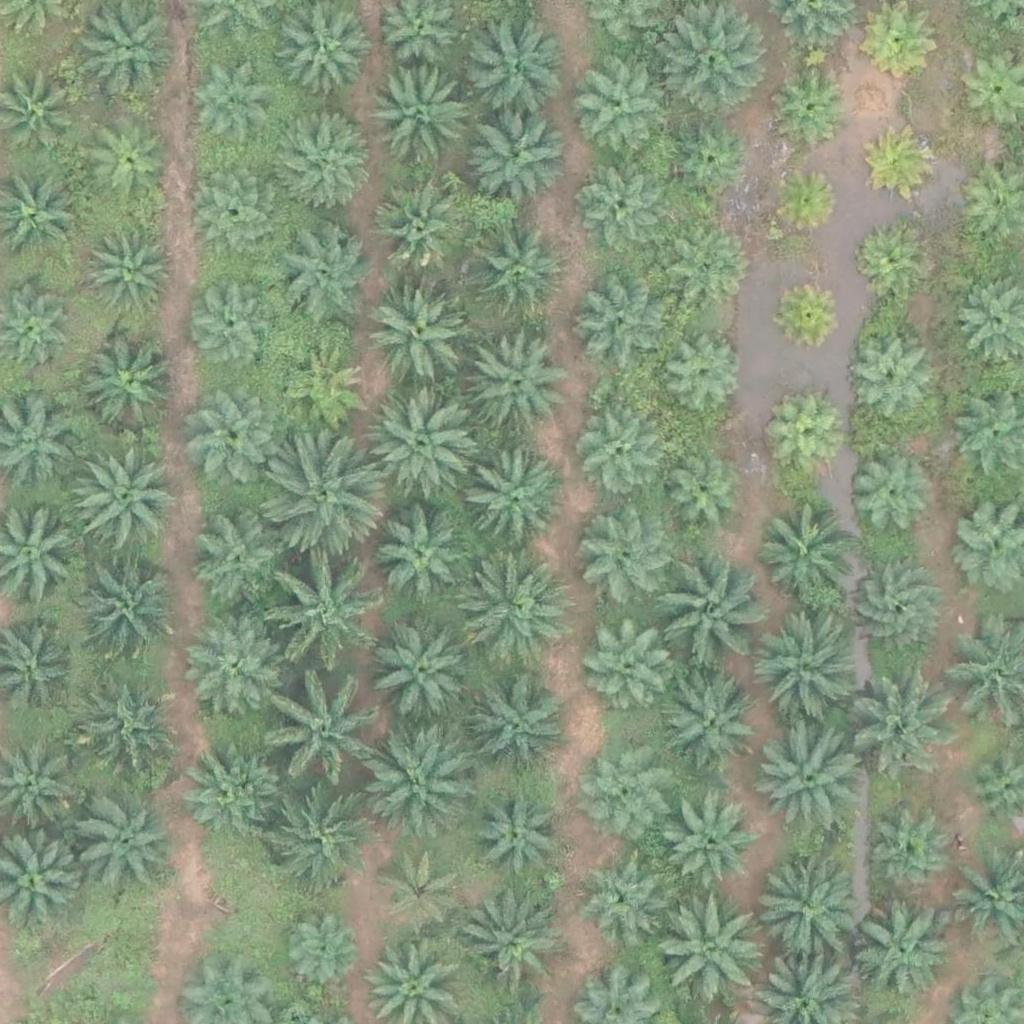Kelapa_Sawit: (747, 719, 860, 833), (744, 850, 857, 963), (456, 449, 569, 562), (457, 558, 570, 671), (367, 615, 480, 728), (266, 441, 379, 554), (750, 615, 862, 729), (652, 892, 764, 1006), (844, 660, 956, 773), (648, 554, 760, 667), (368, 393, 480, 506), (365, 731, 477, 844), (61, 440, 173, 553), (268, 566, 380, 679), (268, 684, 380, 797), (263, 782, 375, 895), (851, 903, 951, 1004), (754, 503, 854, 604), (657, 671, 757, 772), (578, 508, 678, 609), (467, 328, 567, 429), (461, 901, 561, 1002), (374, 508, 474, 609), (191, 618, 291, 719), (178, 737, 278, 838), (74, 682, 174, 783), (463, 20, 563, 121), (468, 103, 568, 204), (368, 276, 468, 377), (467, 220, 567, 321), (574, 272, 674, 373), (370, 68, 470, 169), (274, 105, 374, 206), (846, 561, 946, 661), (195, 511, 295, 611), (79, 335, 179, 435), (76, 564, 176, 664), (76, 796, 176, 896), (275, 223, 375, 323), (468, 676, 567, 777), (183, 279, 271, 368), (843, 335, 931, 423), (669, 804, 757, 892), (569, 407, 657, 495), (665, 115, 753, 203), (665, 233, 753, 321), (575, 71, 663, 159), (576, 163, 664, 251), (186, 64, 274, 152), (190, 168, 278, 256), (92, 231, 180, 319), (380, 847, 467, 936), (845, 451, 932, 539), (867, 813, 954, 901), (661, 331, 748, 419), (658, 455, 745, 543), (572, 850, 659, 938), (581, 738, 668, 826), (584, 623, 671, 711), (475, 789, 562, 877), (279, 910, 366, 998), (190, 384, 277, 472), (373, 185, 460, 273), (282, 9, 369, 97), (86, 118, 173, 206), (281, 345, 368, 433), (850, 221, 925, 297), (767, 401, 842, 477), (772, 274, 847, 350), (865, 125, 940, 201), (775, 67, 850, 142), (767, 164, 842, 239), (865, 3, 940, 78)
